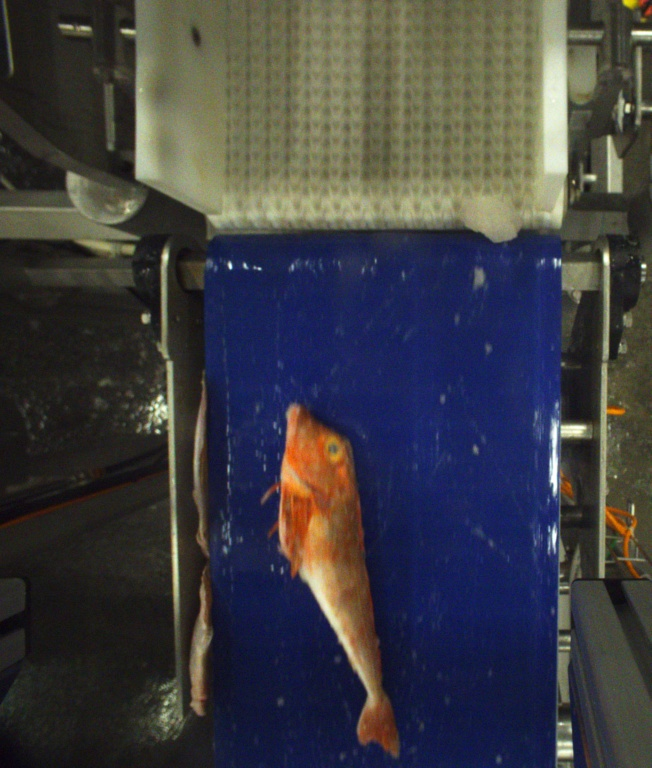GUU: (274, 399, 404, 755)
